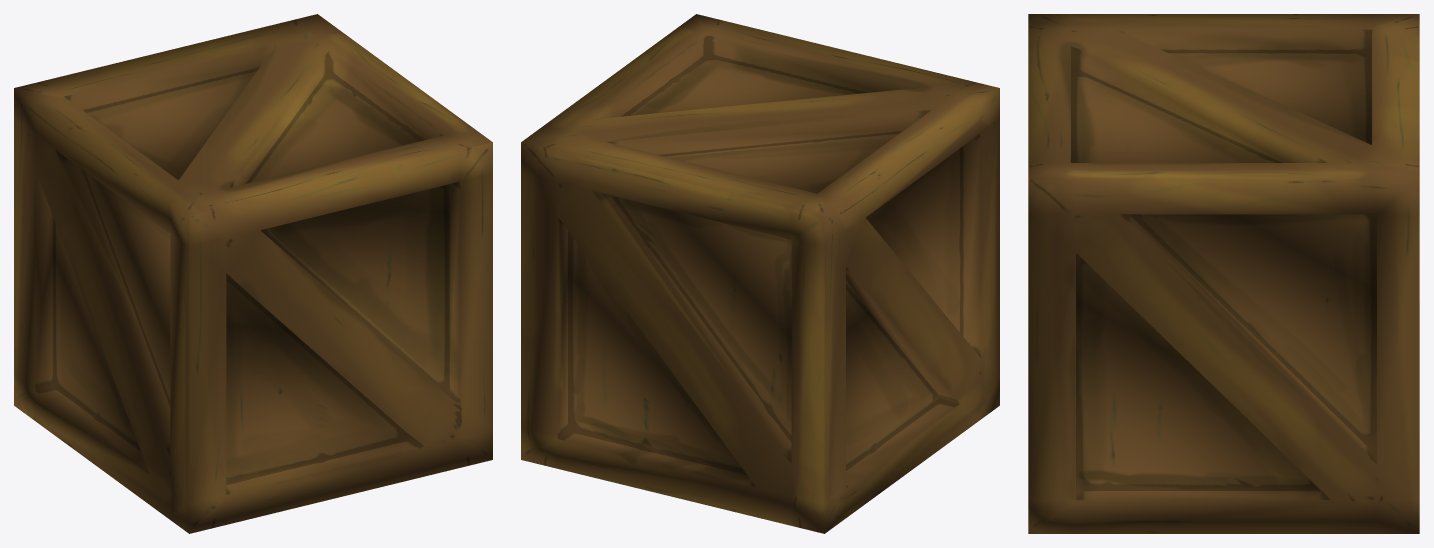
File: delivery_crate.fbx
3 renders of one model, left to right at view 1: azimuth 30°, elevation 25°; view 2: azimuth 150°, elevation 25°; view 3: azimuth 270°, elevation 25°, orthographic. The views are drawn at different scales.
Parts seen in each view (by area): view 1: Crate lp; view 2: Crate lp; view 3: Crate lp.
Boxes of the visible parts, left/top/right/bottom form: Crate lp: left=14, top=14, right=492, bottom=533; Crate lp: left=521, top=14, right=999, bottom=533; Crate lp: left=1028, top=14, right=1419, bottom=533.
Size of the model in its own units: 200 by 200 by 200.
1 material, 1 textured.
